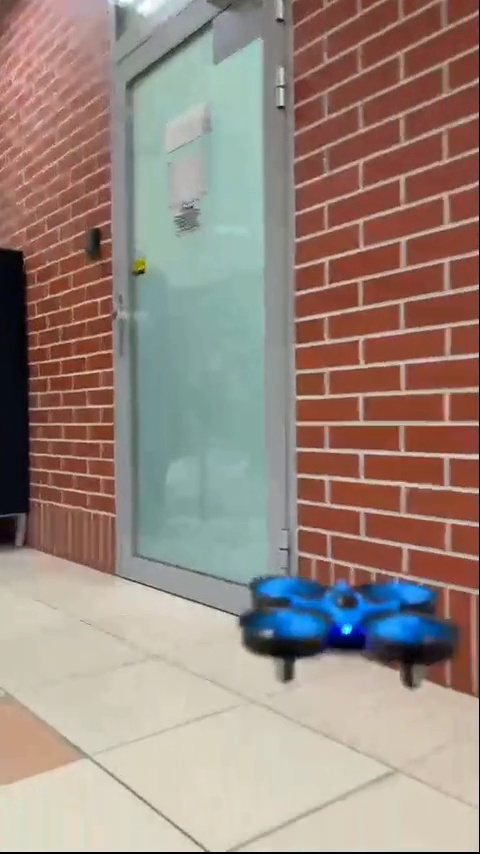drone: (245, 572, 462, 697)
